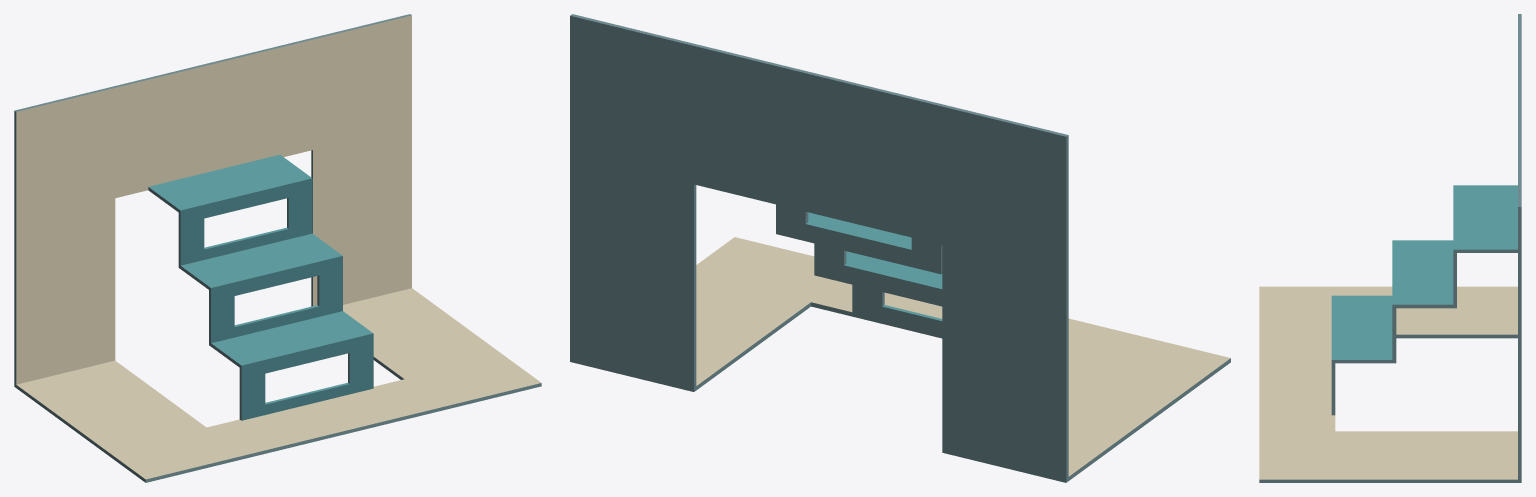
The picture shows the model from 3 angles, left to right: view 1: azimuth 30°, elevation 25°; view 2: azimuth 150°, elevation 25°; view 3: azimuth 270°, elevation 25°; orthographic projection. The views are drawn at different scales.
Parts seen in each view (by area): view 1: WholeContinuousCutAndSteppedPaperCard; view 2: WholeContinuousCutAndSteppedPaperCard; view 3: WholeContinuousCutAndSteppedPaperCard.
Part boxes in pixels (left/top/right/bottom): WholeContinuousCutAndSteppedPaperCard: left=14, top=14, right=541, bottom=482; WholeContinuousCutAndSteppedPaperCard: left=570, top=14, right=1230, bottom=482; WholeContinuousCutAndSteppedPaperCard: left=1259, top=14, right=1521, bottom=482.
Size of the model in its own units: 0.3 by 0.2 by 0.1725.
